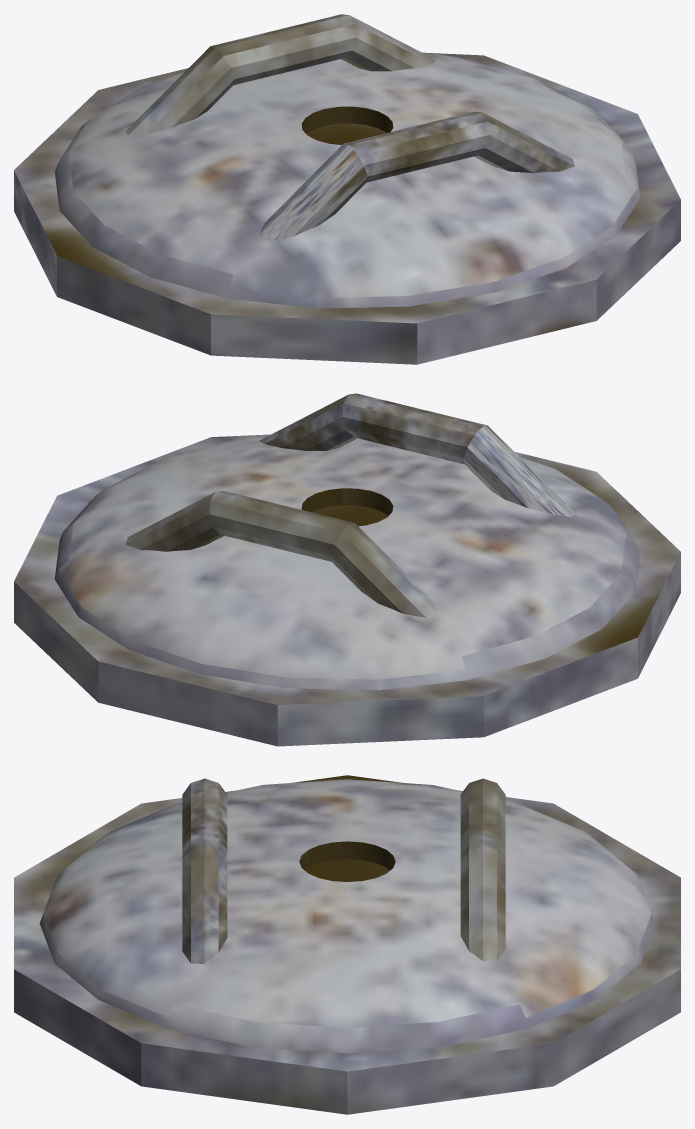
The model's file is FlagBase.fbx.
3 views of the same model, one above another, from view 1: azimuth 30°, elevation 25°; view 2: azimuth 150°, elevation 25°; view 3: azimuth 270°, elevation 25° (orthographic). The views are drawn at different scales.
Visible parts, largest first — view 1: pCylinder2, pTorus1, pTorus2; view 2: pCylinder2, pTorus2, pTorus1; view 3: pCylinder2, pTorus1, pTorus2.
Part boxes in pixels (x1,y1,x2,y2): pCylinder2: (14, 52, 680, 364); pTorus1: (259, 111, 574, 240); pTorus2: (125, 14, 436, 135); pCylinder2: (14, 434, 680, 746); pTorus2: (125, 491, 436, 617); pTorus1: (259, 393, 574, 517); pCylinder2: (14, 775, 680, 1114); pTorus1: (182, 778, 227, 963); pTorus2: (460, 778, 505, 961).
Bounding box in the file's own units: 2 × 0.4847 × 1.9.
